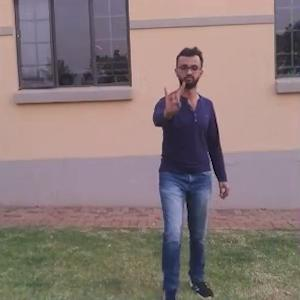takeoff-hand: (155, 78, 194, 121)
